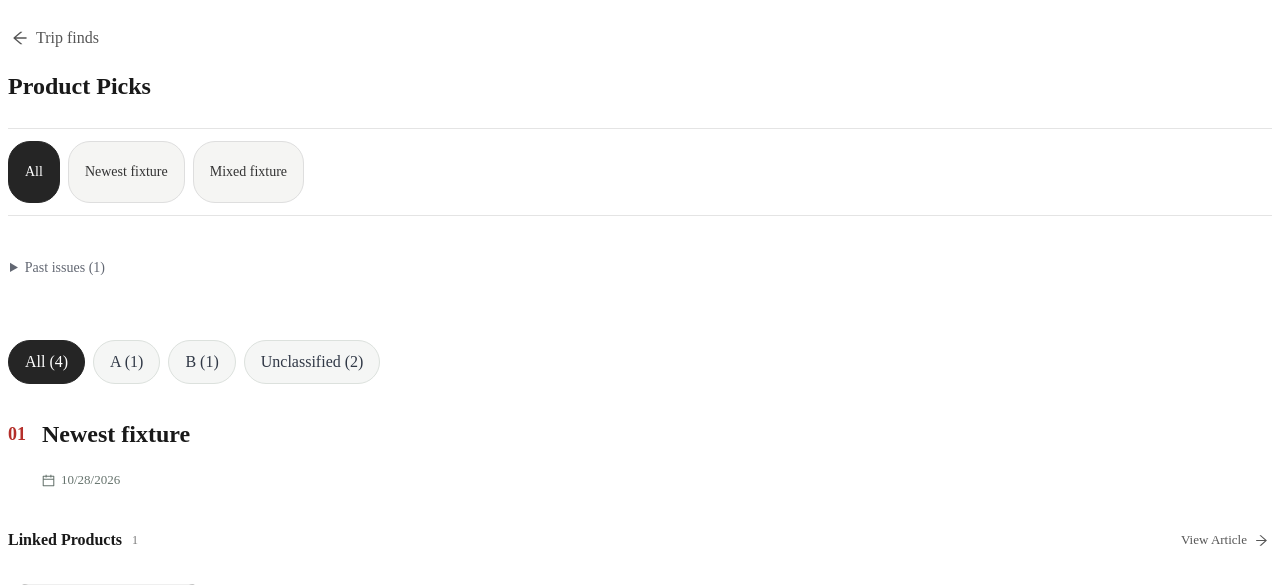
Test case: keeps newest and mixed issues prominent while preserving collapsed historical topics and content
Expected: the heading "Newest fixture" is shown, [42,421,190,447]
Click the heading "Past issues (1)" at (65, 268), box [25,260,105,275]
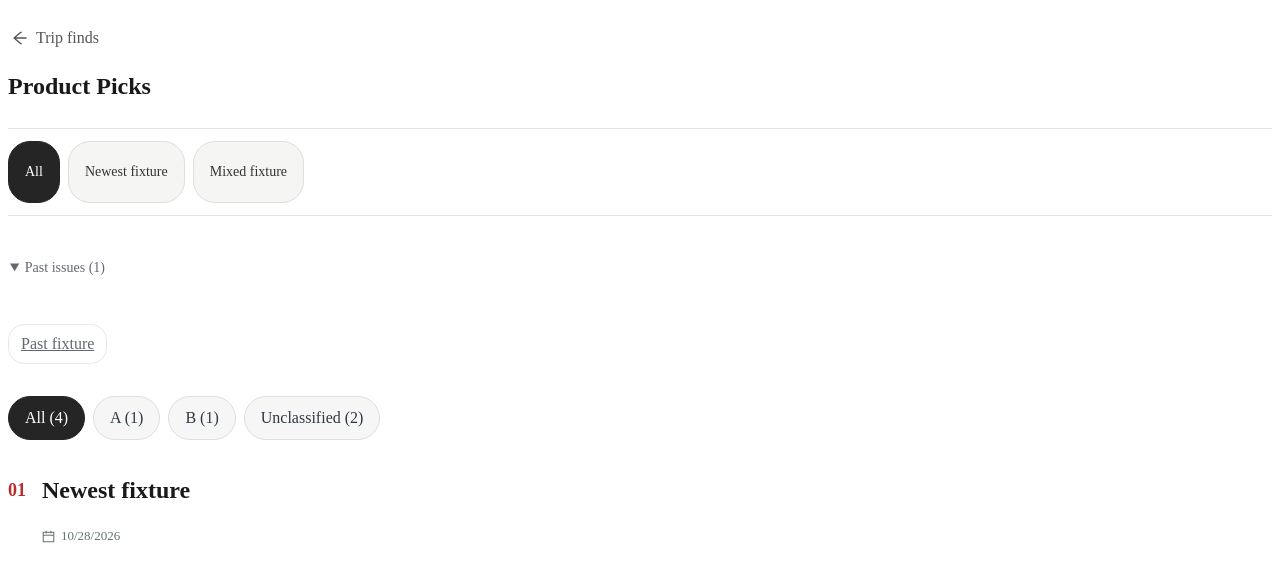
Click the link "Past fixture" at (58, 344), box [8,324,107,364]
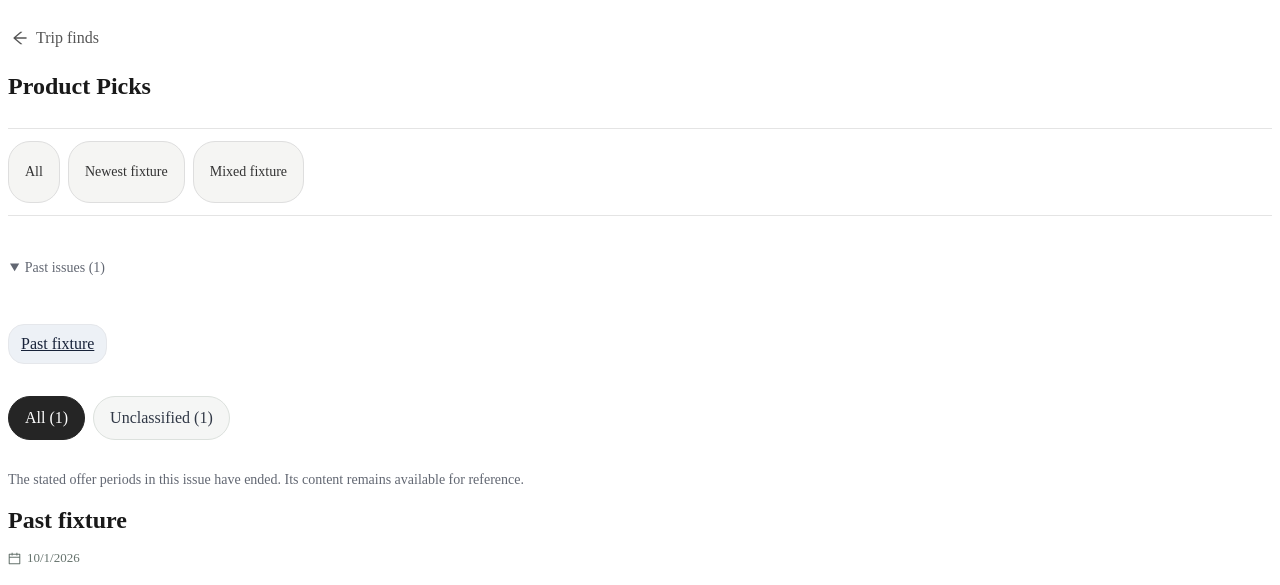
Now the heading "Past fixture" is shown, box [8,502,127,538]
Now the text "stated offer periods" is shown, box [8,472,524,487]
